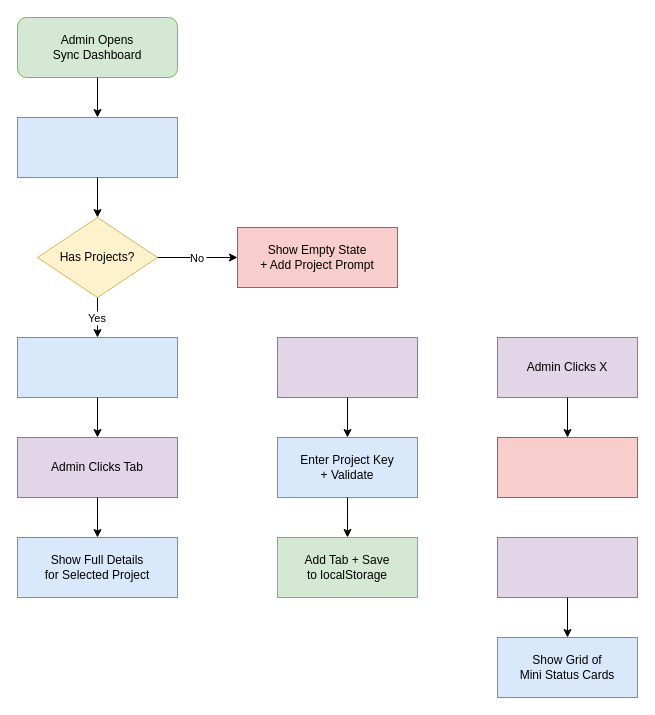
Image size: 655x715. Some labels were removed from this diagram. The shapes that lost their labels are listed below. From the top down, each one's centre as x and y in pixels, then its label:
At [97,147]: "Load Projects from localStorage".
At [97,367]: "Render Project Tabs + Establish SSE".
At [347,367]: "Admin Clicks +".
At [567,467]: "Close SSE + Remove Tab + Update localStorage".
At [567,567]: "Overview Toggle".
